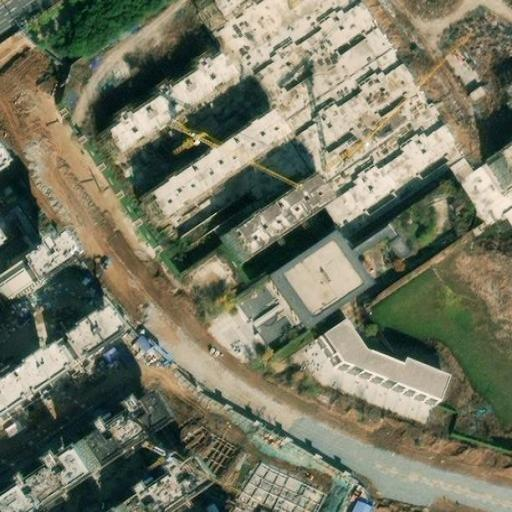building: (141, 114, 280, 224), (97, 57, 231, 164), (329, 123, 463, 229), (266, 229, 371, 330), (314, 328, 443, 410), (219, 174, 329, 266), (73, 400, 159, 473), (0, 454, 79, 512), (111, 462, 199, 512), (0, 356, 52, 415), (0, 245, 52, 297), (54, 320, 109, 369), (231, 281, 281, 327), (250, 300, 299, 346), (201, 0, 264, 35), (490, 146, 512, 187), (353, 497, 379, 512)
